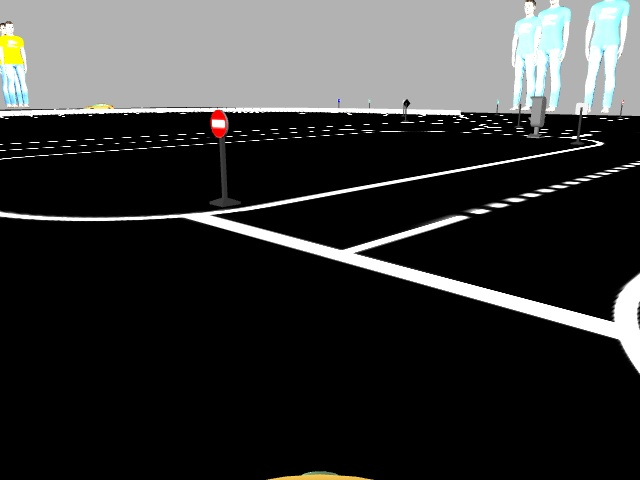NoEntry: (209, 112, 227, 138)
